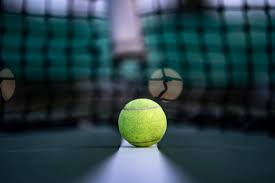tennis_ball: (118, 98, 167, 149)
